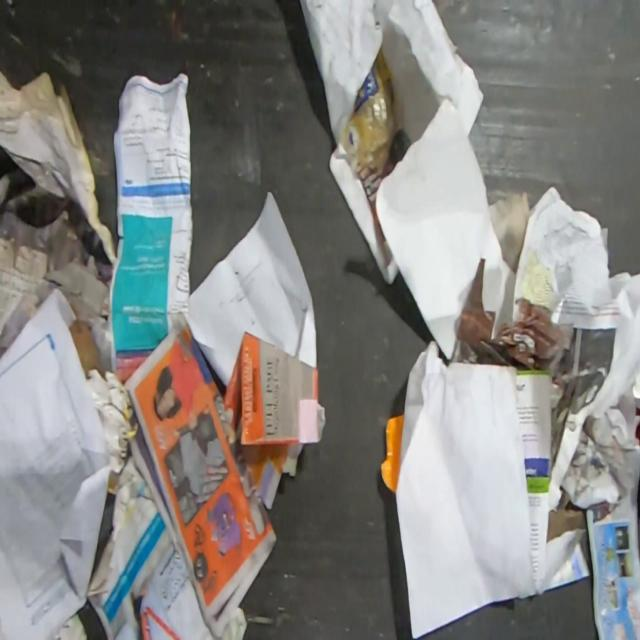cardboard: (69, 318, 105, 378)
